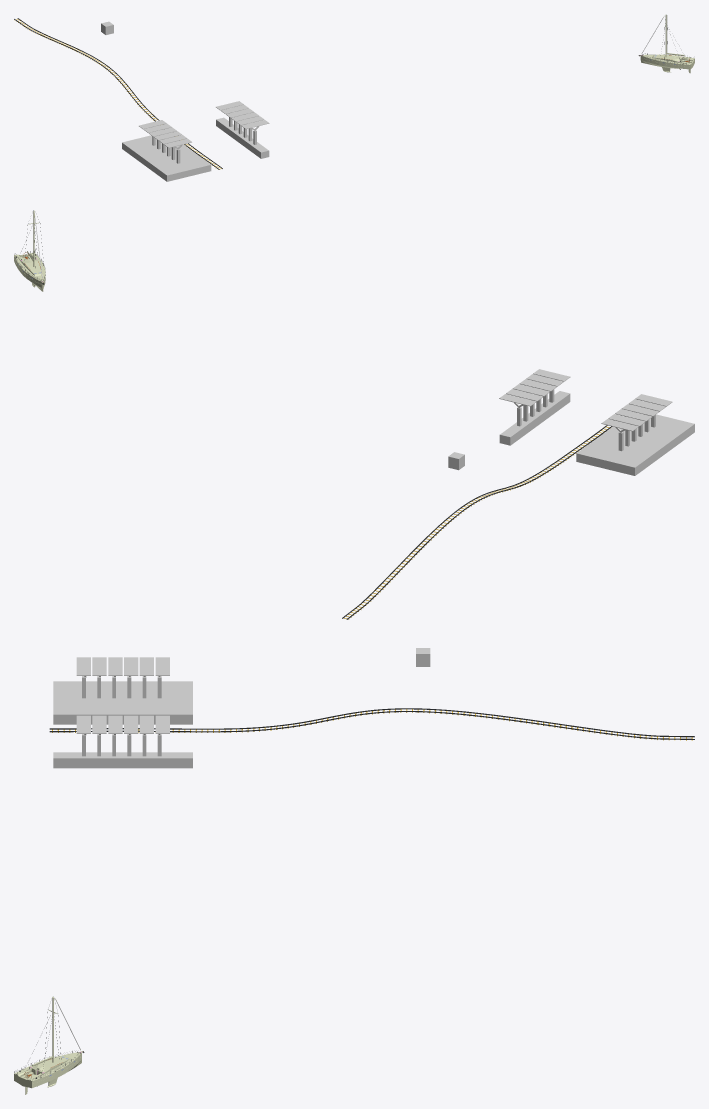
The model's file is areas_compressed.glb.
3 renders of one model, top to bottom at view 1: azimuth 30°, elevation 25°; view 2: azimuth 150°, elevation 25°; view 3: azimuth 270°, elevation 25°, orthographic. The views are drawn at different scales.
Visible parts, largest first — view 1: fat_base, rail_sleeper, ceil_1, ceil, thin_base, govde, column_1_base, column_base; view 2: fat_base, rail_sleeper, ceil_1, ceil, thin_base; view 3: fat_base, thin_base, rail_sleeper, ceil, ceil_1, govde.
Boxes of the visible parts, bbox=[...] form: fat_base: bbox=[122, 135, 211, 181]; rail_sleeper: bbox=[14, 18, 222, 169]; ceil_1: bbox=[216, 101, 269, 129]; ceil: bbox=[139, 120, 191, 147]; thin_base: bbox=[216, 117, 269, 158]; govde: bbox=[640, 54, 694, 69]; column_1_base: bbox=[229, 117, 256, 144]; column_base: bbox=[152, 136, 180, 163]; fat_base: bbox=[576, 414, 694, 475]; rail_sleeper: bbox=[342, 425, 612, 619]; ceil_1: bbox=[499, 369, 570, 406]; ceil: bbox=[601, 394, 672, 431]; thin_base: bbox=[499, 391, 570, 445]; fat_base: bbox=[53, 681, 192, 724]; thin_base: bbox=[53, 752, 192, 768]; rail_sleeper: bbox=[49, 708, 694, 740]; ceil: bbox=[76, 657, 169, 675]; ceil_1: bbox=[76, 715, 169, 733]; govde: bbox=[14, 1051, 82, 1088].
Bounding box in the file's own units: 129 × 15.95 × 94.87.
